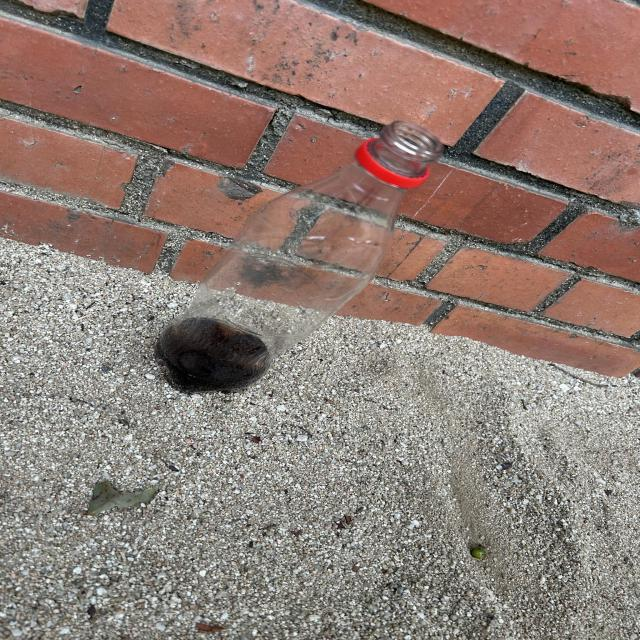low: (156, 121, 442, 392)
